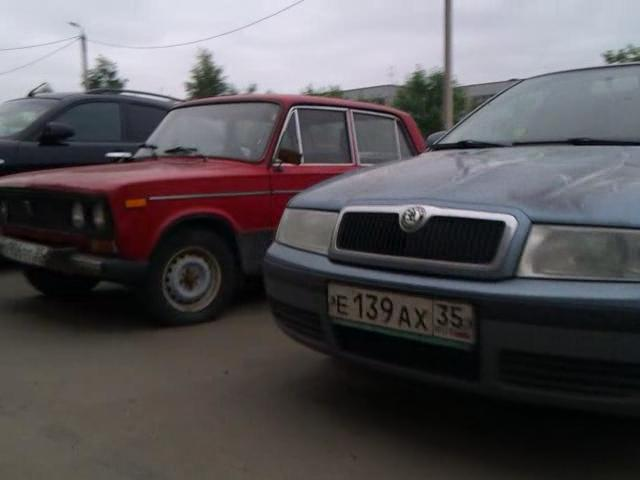car license plate: (326, 275, 481, 353), (3, 233, 51, 273)
